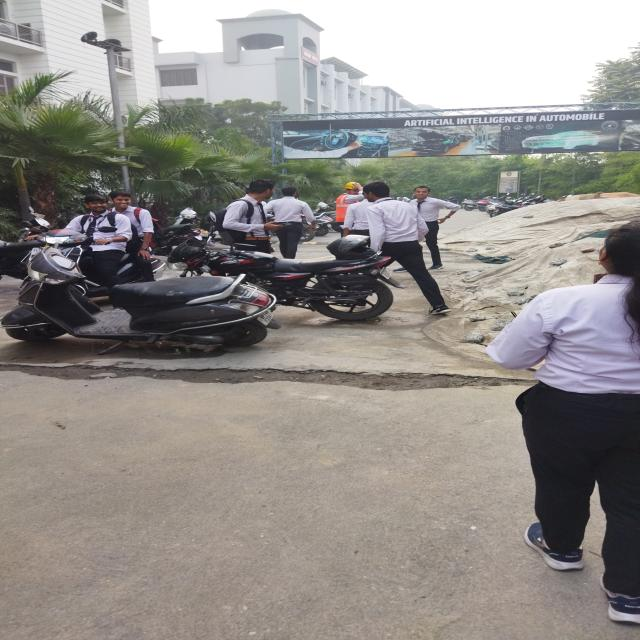safe: (334, 182, 363, 238)
unsafe: (488, 219, 640, 624), (362, 182, 456, 314), (57, 194, 130, 313), (218, 180, 276, 270), (107, 191, 155, 291), (406, 186, 461, 270), (265, 187, 319, 261)
